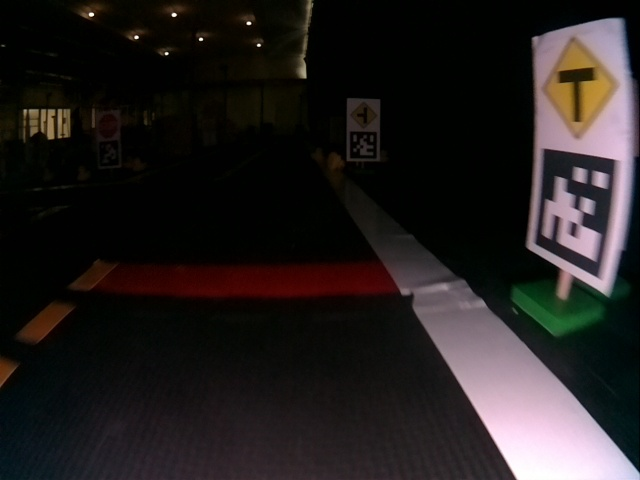Duckie: (328, 153, 344, 170), (133, 159, 144, 170), (79, 168, 89, 180)
Intersection sign: (541, 37, 619, 140), (351, 102, 376, 127)
QR code: (535, 146, 620, 278), (348, 130, 377, 160), (99, 140, 120, 166)
Stop sign: (98, 113, 118, 137)
